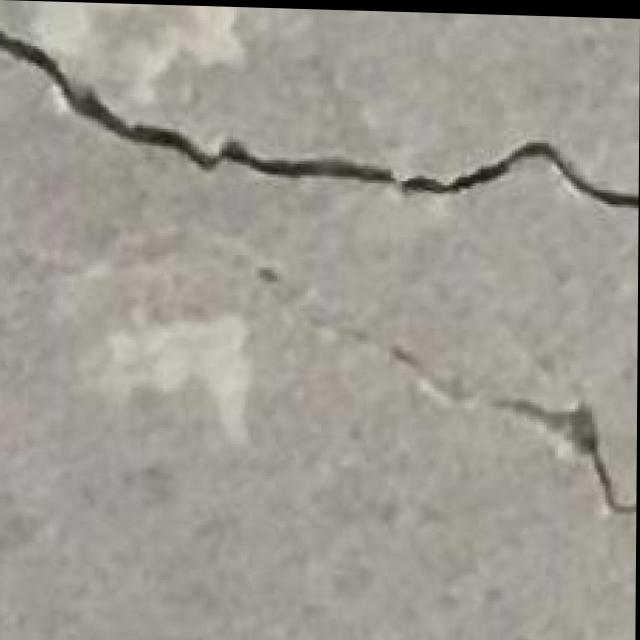Crack: (24, 122, 628, 220), (316, 328, 630, 486), (8, 40, 118, 101)
